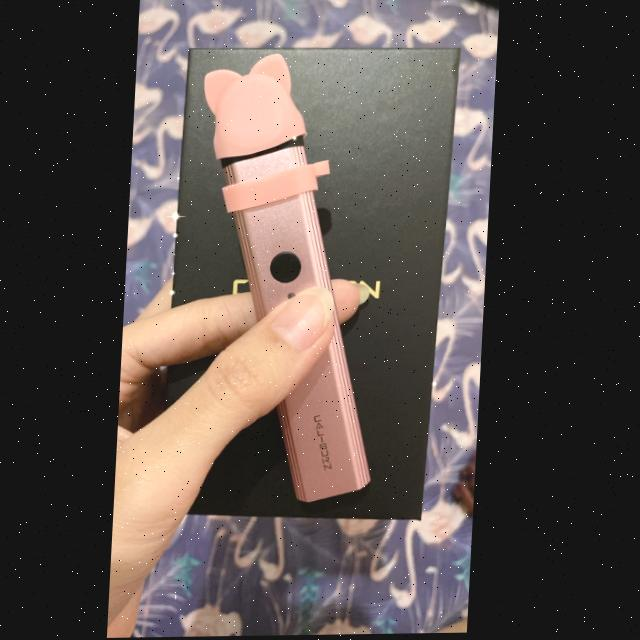vape: (185, 54, 390, 505)
